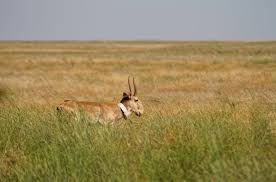saiga: (50, 74, 155, 132)
